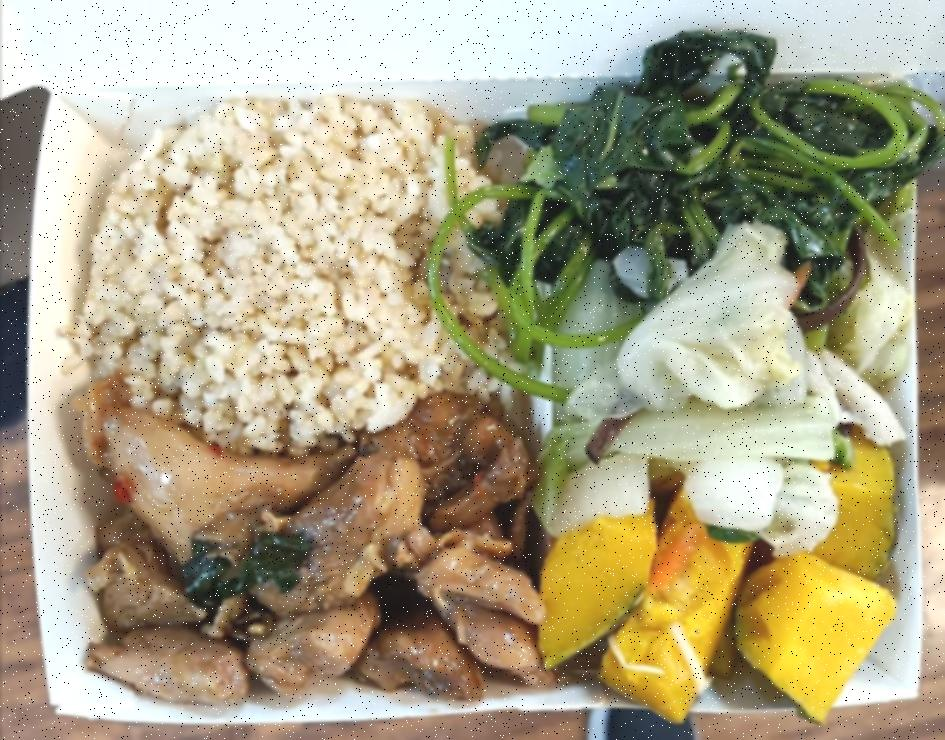box: (4, 77, 940, 721)
brown rice: (84, 96, 512, 448)
side dish: (501, 29, 932, 292), (532, 232, 910, 518), (542, 447, 900, 714)
three cup chicken: (62, 400, 541, 706)
